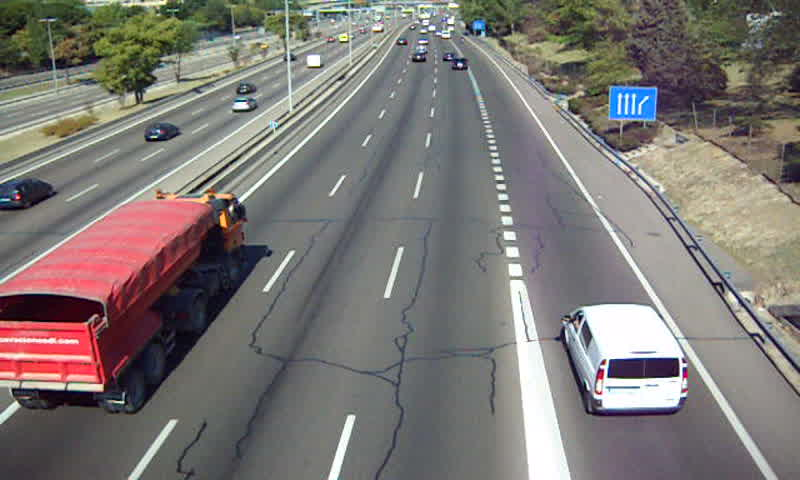car: (450, 58, 469, 72)
truck: (1, 193, 244, 415)
van: (561, 304, 690, 413)
